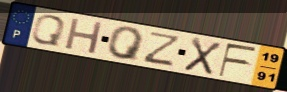F: (217, 42, 260, 79)
H: (63, 16, 106, 56)
Q: (107, 26, 147, 63), (29, 14, 68, 48)
X: (181, 36, 224, 77)
Z: (141, 31, 184, 68)
